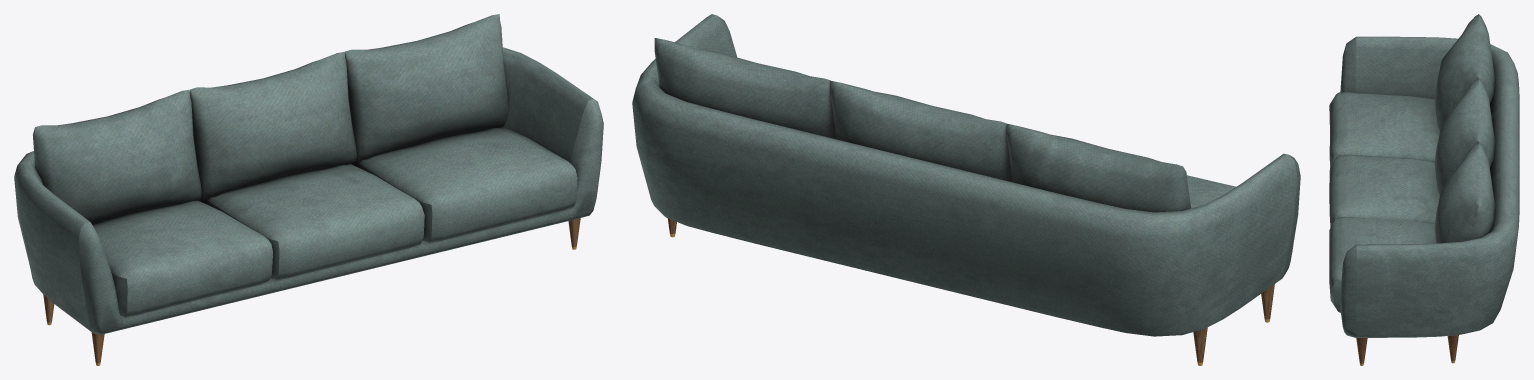
File: OgannessonSofa.fbx
3 views of the same model, side by side, from view 1: azimuth 30°, elevation 25°; view 2: azimuth 150°, elevation 25°; view 3: azimuth 270°, elevation 25° (orthographic). The views are drawn at different scales.
Parts seen in each view (by area): view 1: s4studio_mesh_2; view 2: s4studio_mesh_2; view 3: s4studio_mesh_2.
Boxes of the visible parts, left/top/right/bottom form: s4studio_mesh_2: left=14, top=14, right=603, bottom=365; s4studio_mesh_2: left=632, top=14, right=1300, bottom=365; s4studio_mesh_2: left=1329, top=14, right=1519, bottom=365.
Size of the model in its own units: 245 by 83.24 by 91.3.
